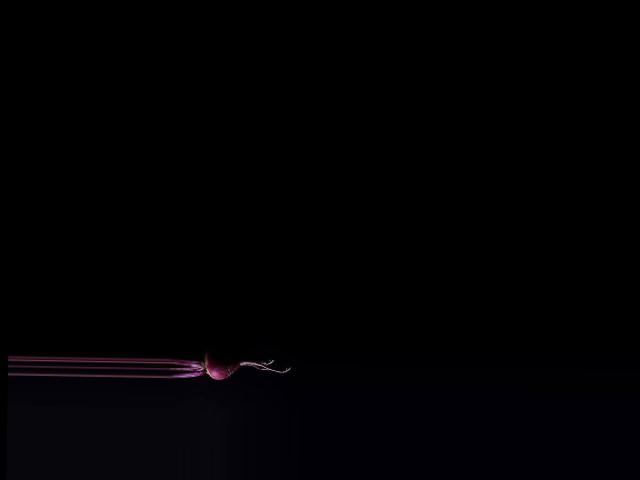beet: (168, 347, 291, 382)
